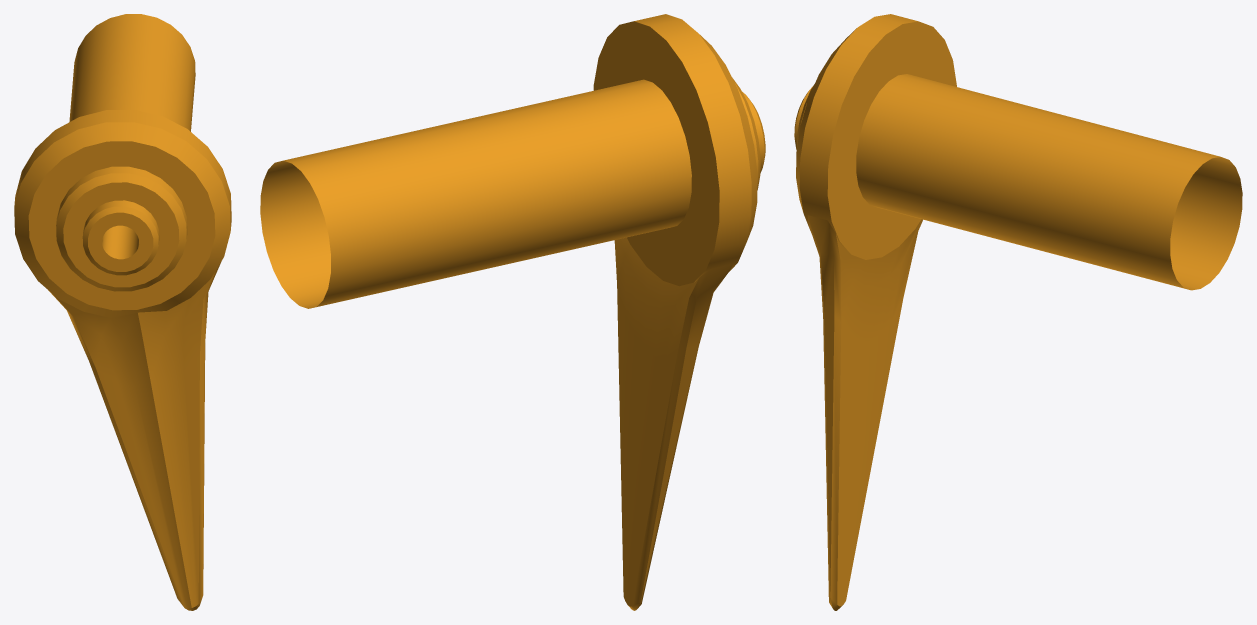
File: luckyDrawHand.glb
3 views of the same model, side by side, from view 1: azimuth 30°, elevation 25°; view 2: azimuth 150°, elevation 25°; view 3: azimuth 270°, elevation 25° (orthographic). The views are drawn at different scales.
Visible parts, largest first — view 1: luckyDrawHand; view 2: luckyDrawHand; view 3: luckyDrawHand.
Part boxes in pixels (x1,y1,x2,y2): luckyDrawHand: (14, 14, 231, 610); luckyDrawHand: (260, 14, 765, 610); luckyDrawHand: (794, 14, 1242, 610).
Bounding box in the file's own units: 0.1592 × 0.2606 × 0.1902.
